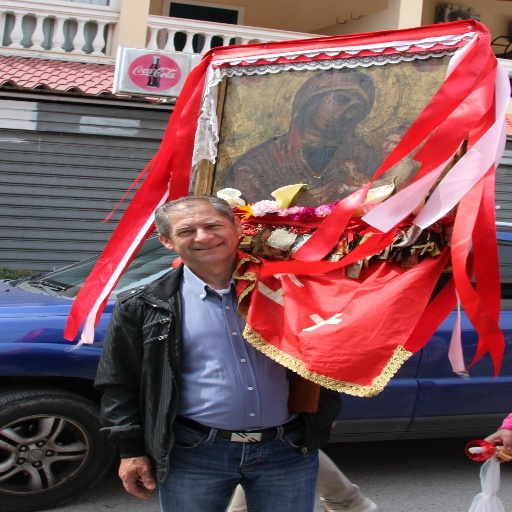hand: (109, 459, 159, 499), (287, 178, 340, 208), (477, 428, 511, 464)
